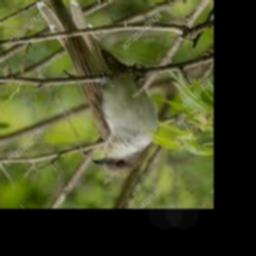Cuckoo: (37, 0, 156, 175)
